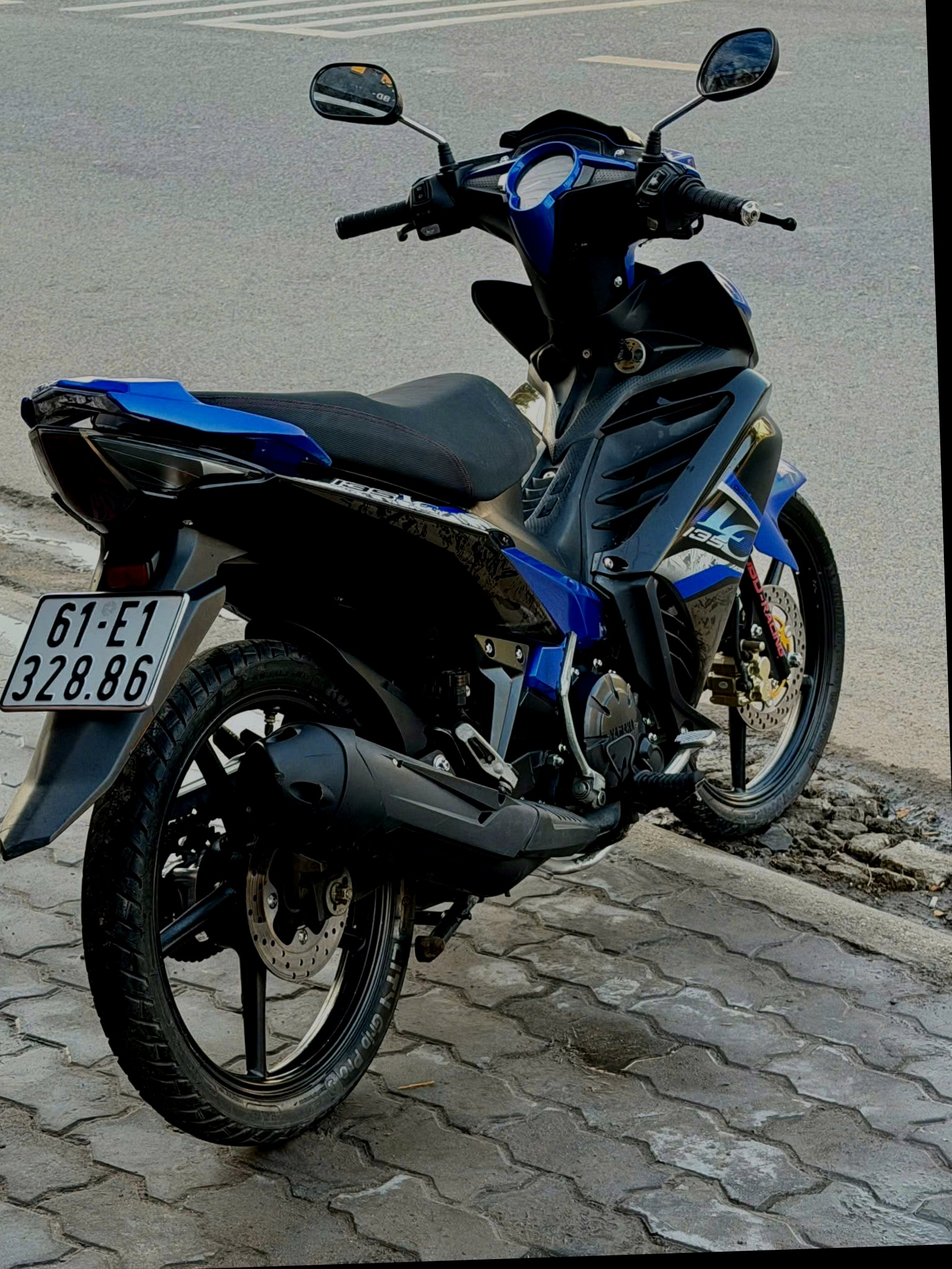Bien-so: (34, 633, 221, 749)
